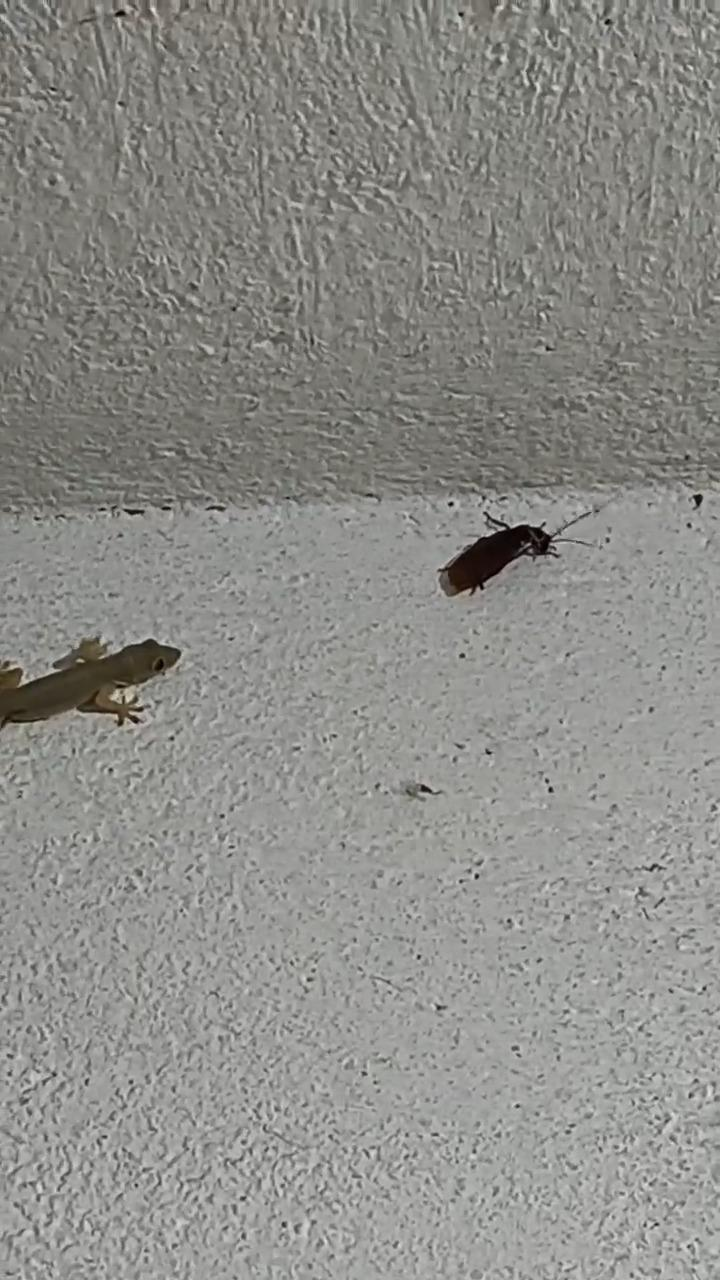cockroach: (425, 503, 623, 600)
lizard: (0, 628, 187, 740)
